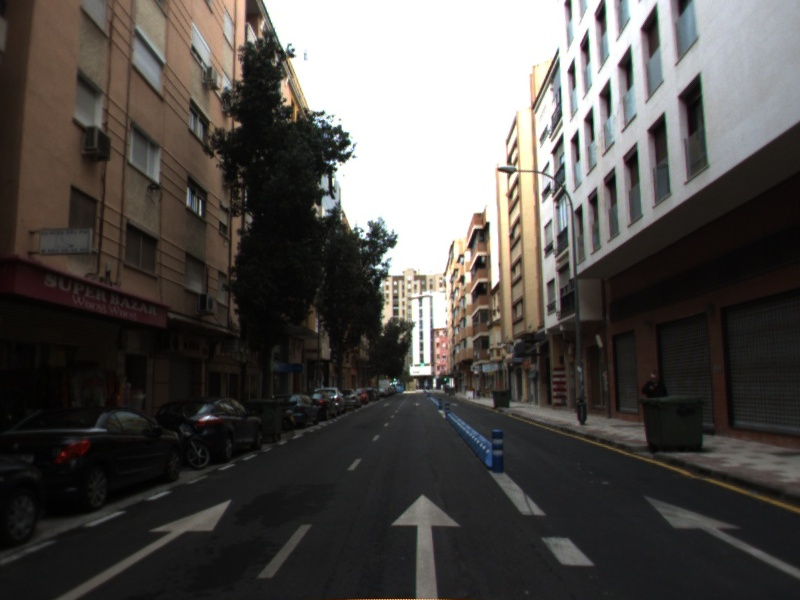STRAIGHT: (55, 498, 234, 600), (641, 493, 800, 580), (389, 493, 462, 600)
